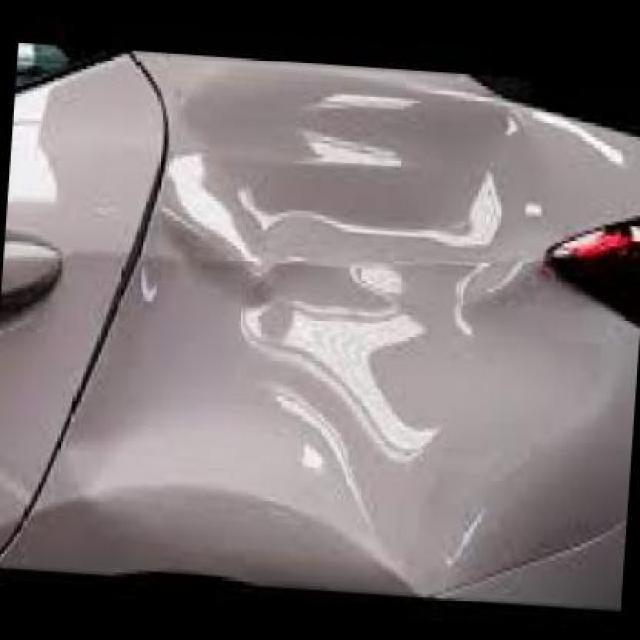dent: (48, 229, 408, 535), (242, 260, 463, 460), (208, 126, 498, 266)
